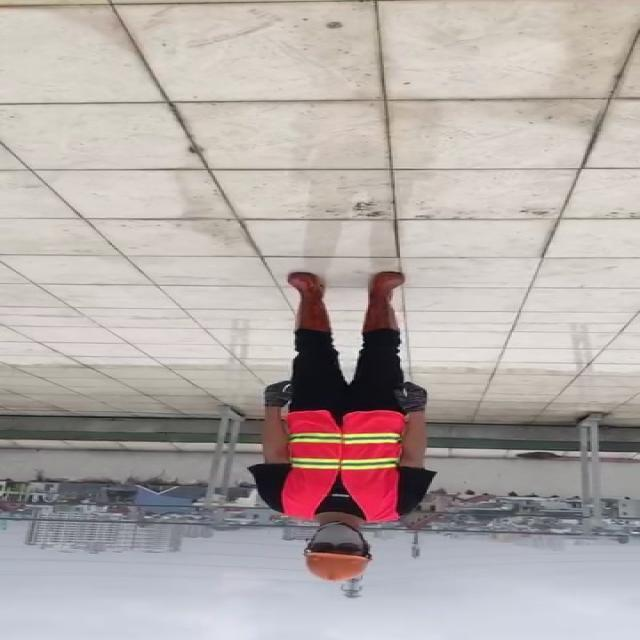gloves: (391, 382, 430, 411), (260, 379, 298, 408)
